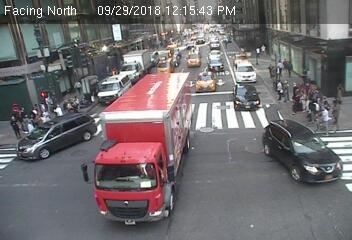car: (95, 68, 193, 226), (262, 120, 338, 179), (15, 114, 96, 144), (98, 74, 132, 100), (122, 50, 151, 76), (232, 84, 262, 109), (194, 71, 217, 91), (232, 64, 257, 81), (231, 53, 251, 65), (156, 58, 172, 73), (208, 58, 225, 72), (188, 50, 199, 68), (207, 50, 224, 59), (206, 39, 221, 49), (166, 41, 176, 48)
